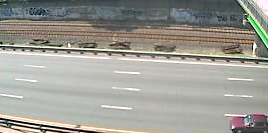car: (228, 111, 266, 133)
